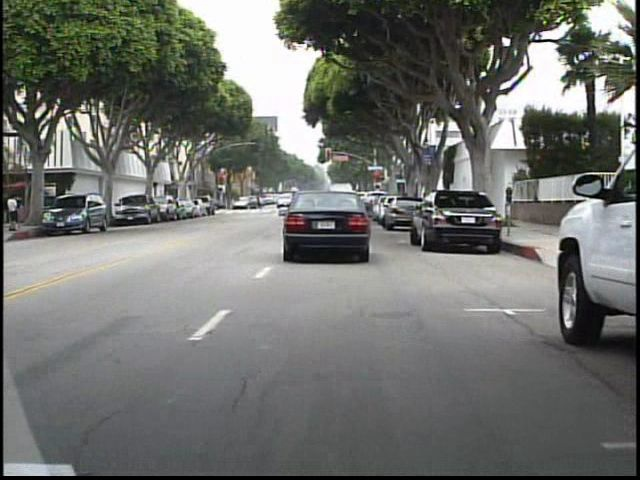person: (8, 191, 26, 234), (254, 190, 267, 214)
